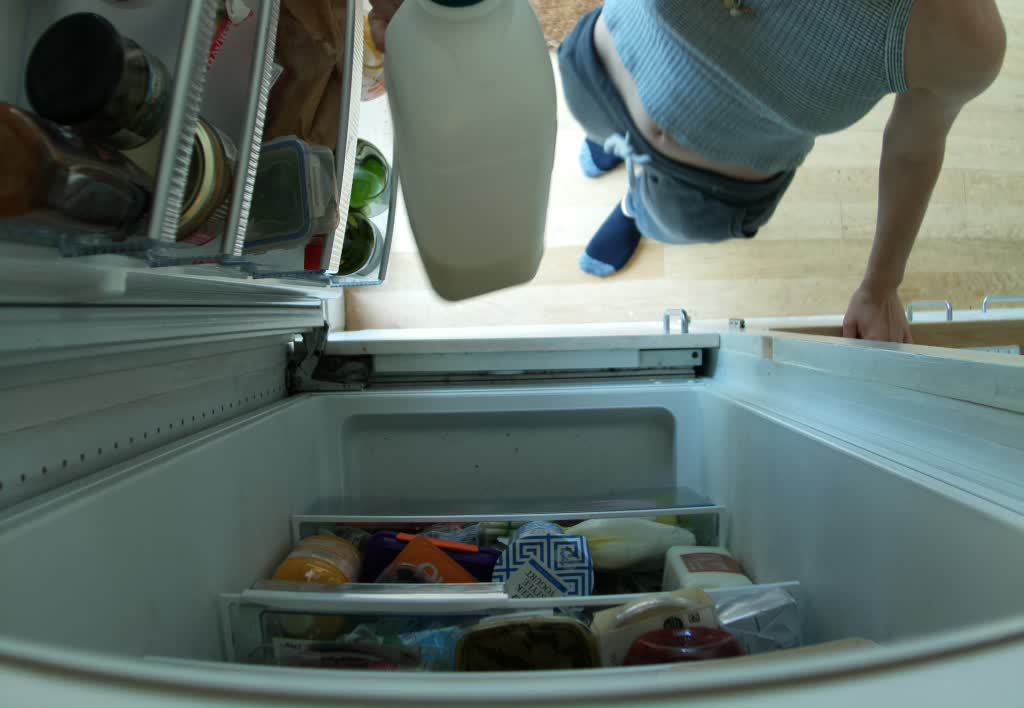milk: (380, 1, 561, 310)
